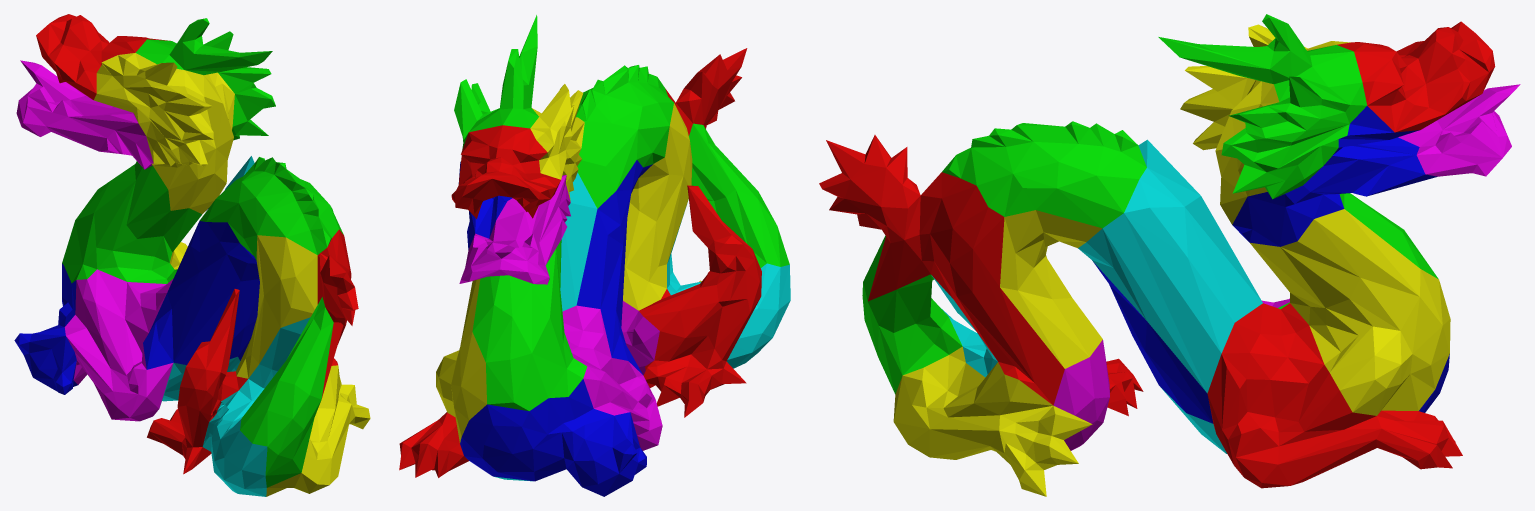
The model's file is Dragon_80K_5.fbx.
The picture shows the model from 3 angles, left to right: view 1: azimuth 30°, elevation 25°; view 2: azimuth 150°, elevation 25°; view 3: azimuth 270°, elevation 25°; orthographic projection. The views are drawn at different scales.
Bounding box in the file's own units: 0.4446 × 0.705 × 0.9995.
